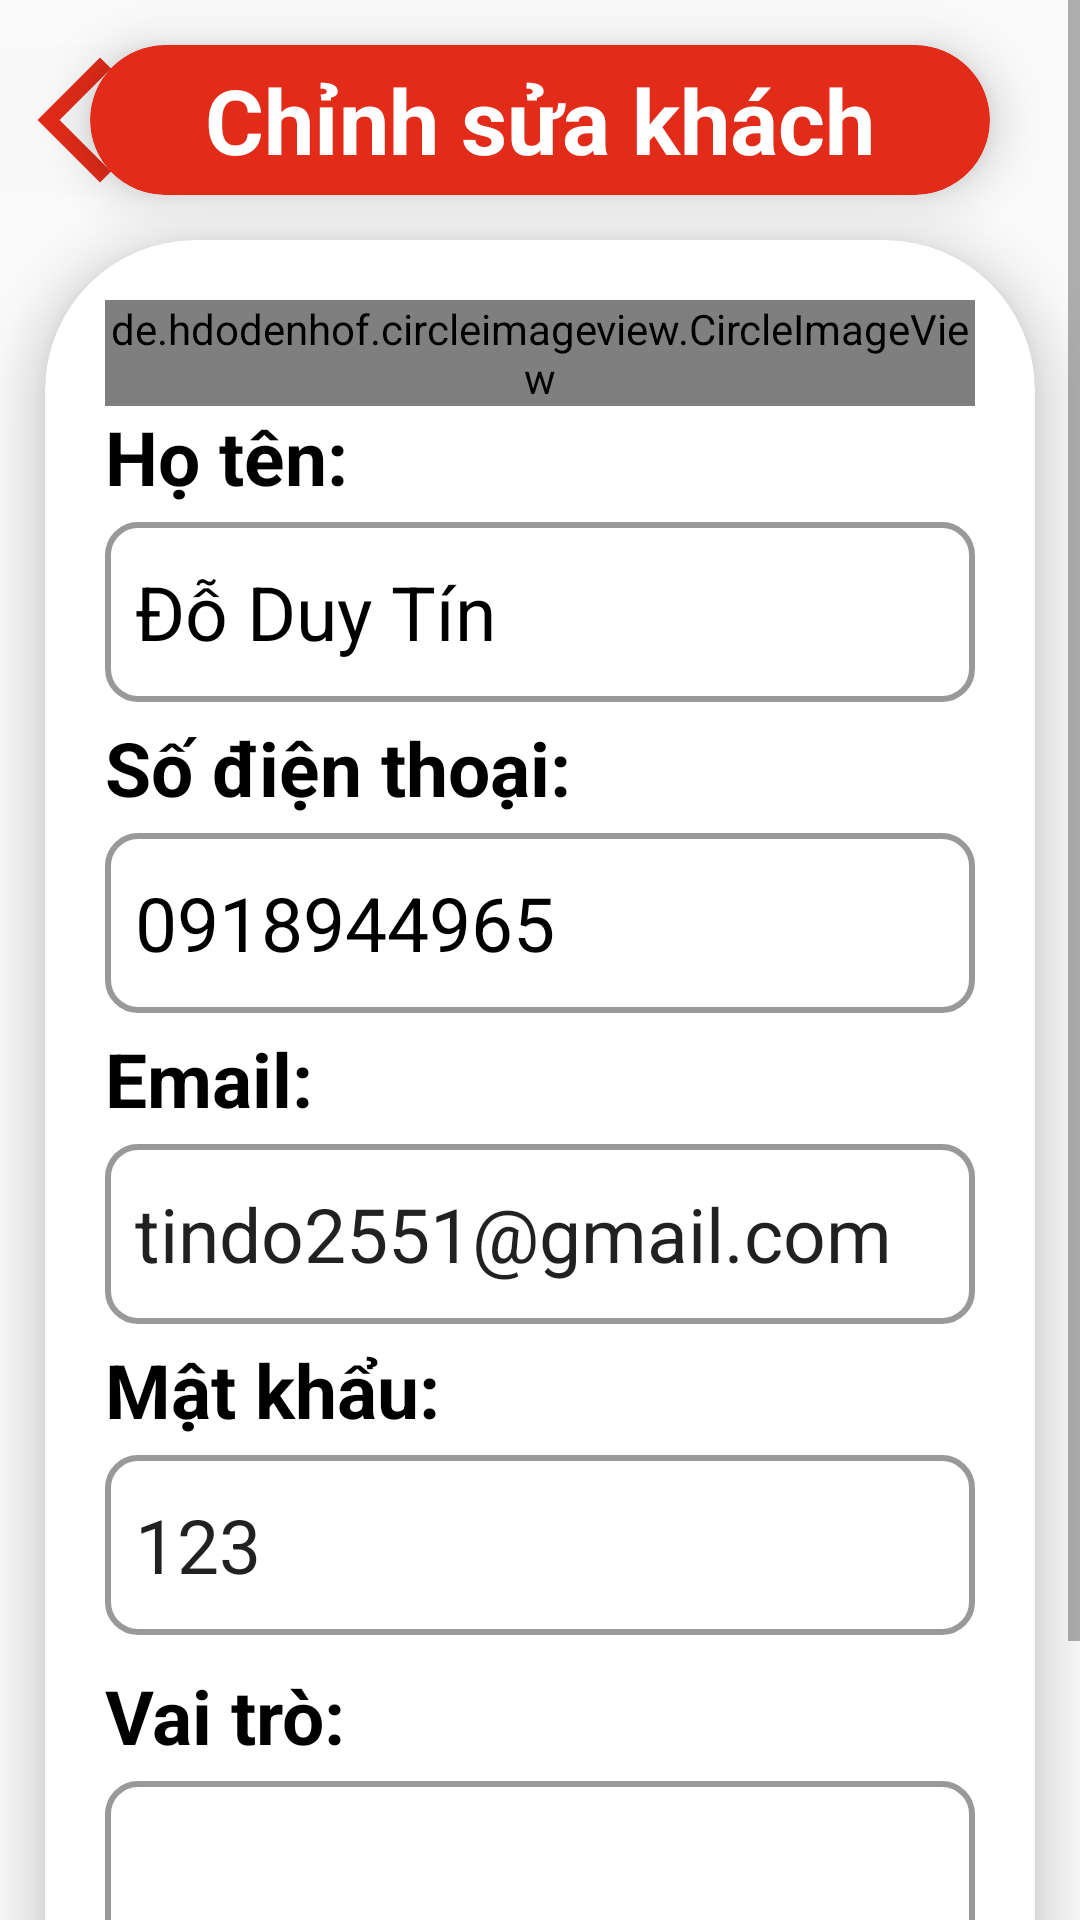

Icons on this 1080×1920 Android screen, each with the point to tap as (x=x, y=y):
back: (x=93, y=120)
